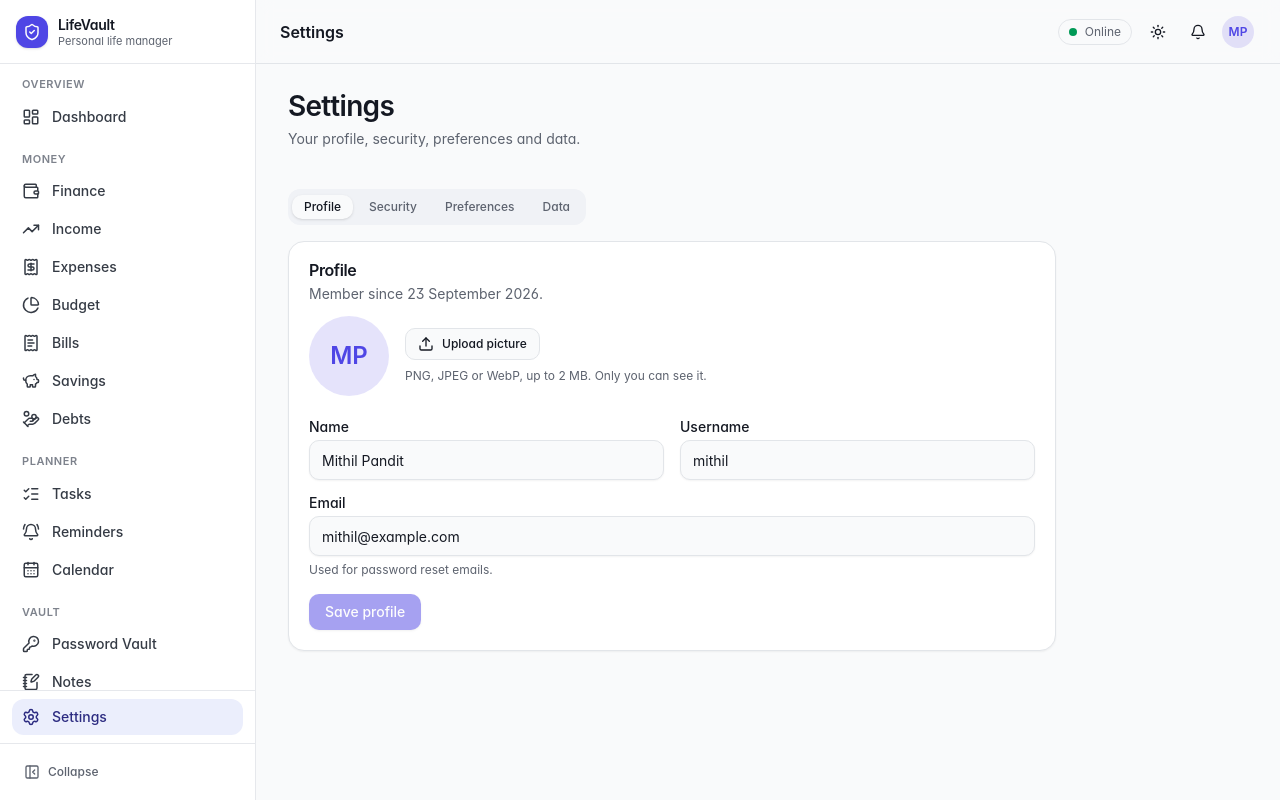
Test: settings: profile › asks for the current password to change the email
Replace the text in the field labelled "Email" with "taken@example.com" at x=672, y=536, box [309,516,1035,556]
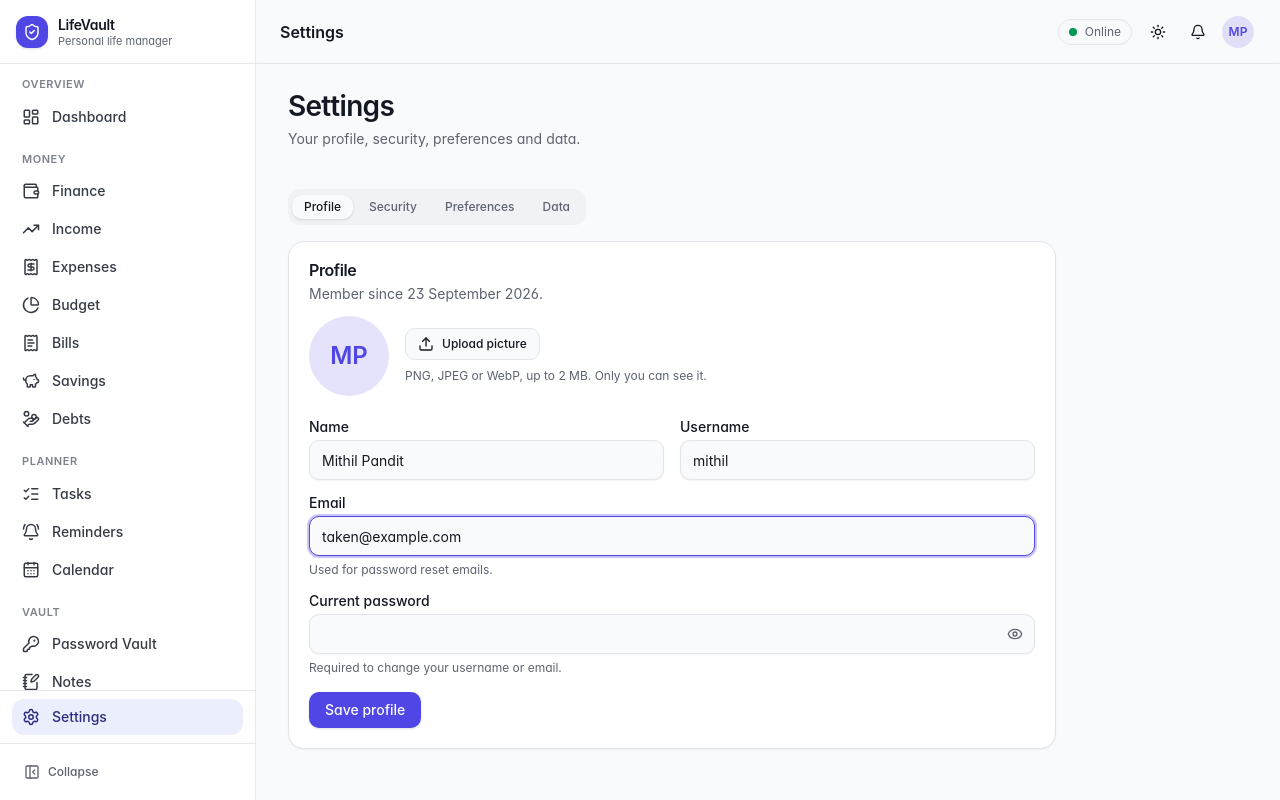
Click the button "Save profile" at x=365, y=710, box [309,692,421,728]
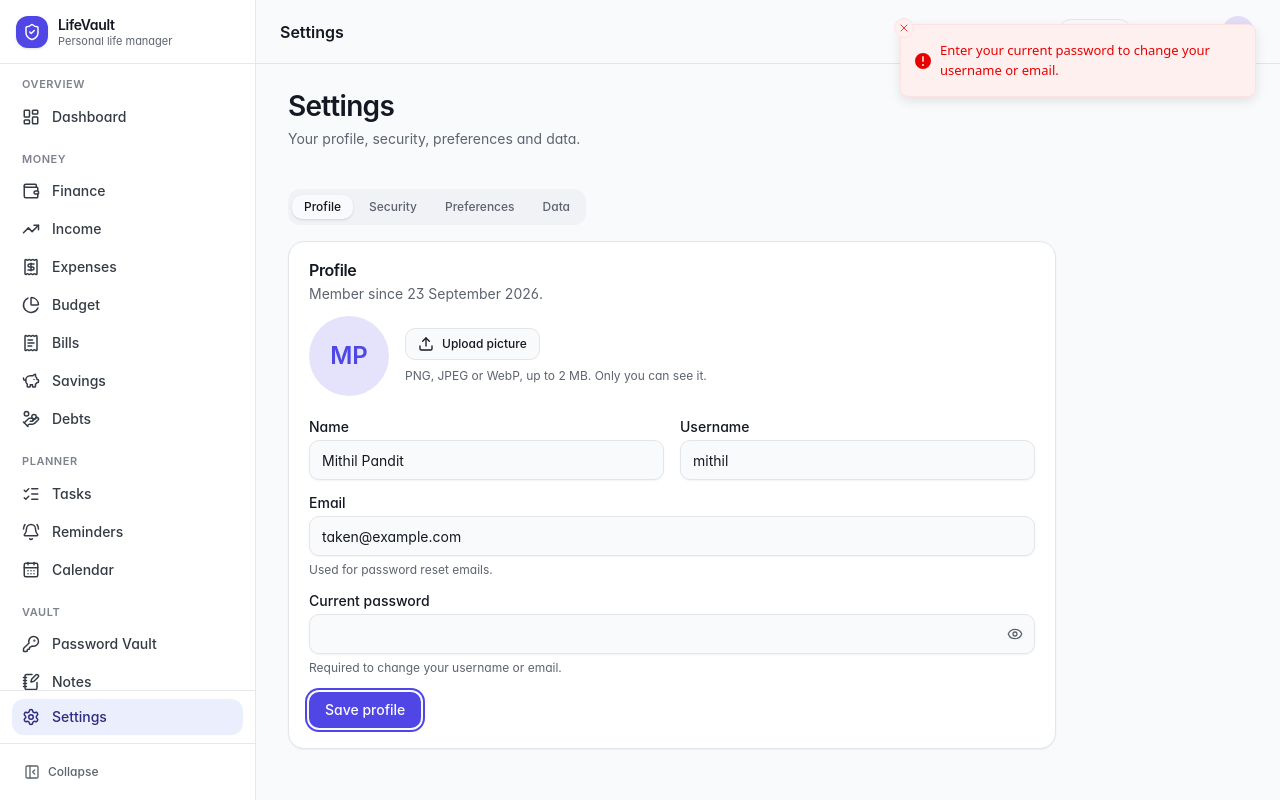
Now the text "Enter your current password to change your username or email." is shown, box [940,41,1239,80]
Type "Correct-Horse-42" into the password field labelled "Current password" at x=672, y=634, box [309,614,1035,654]
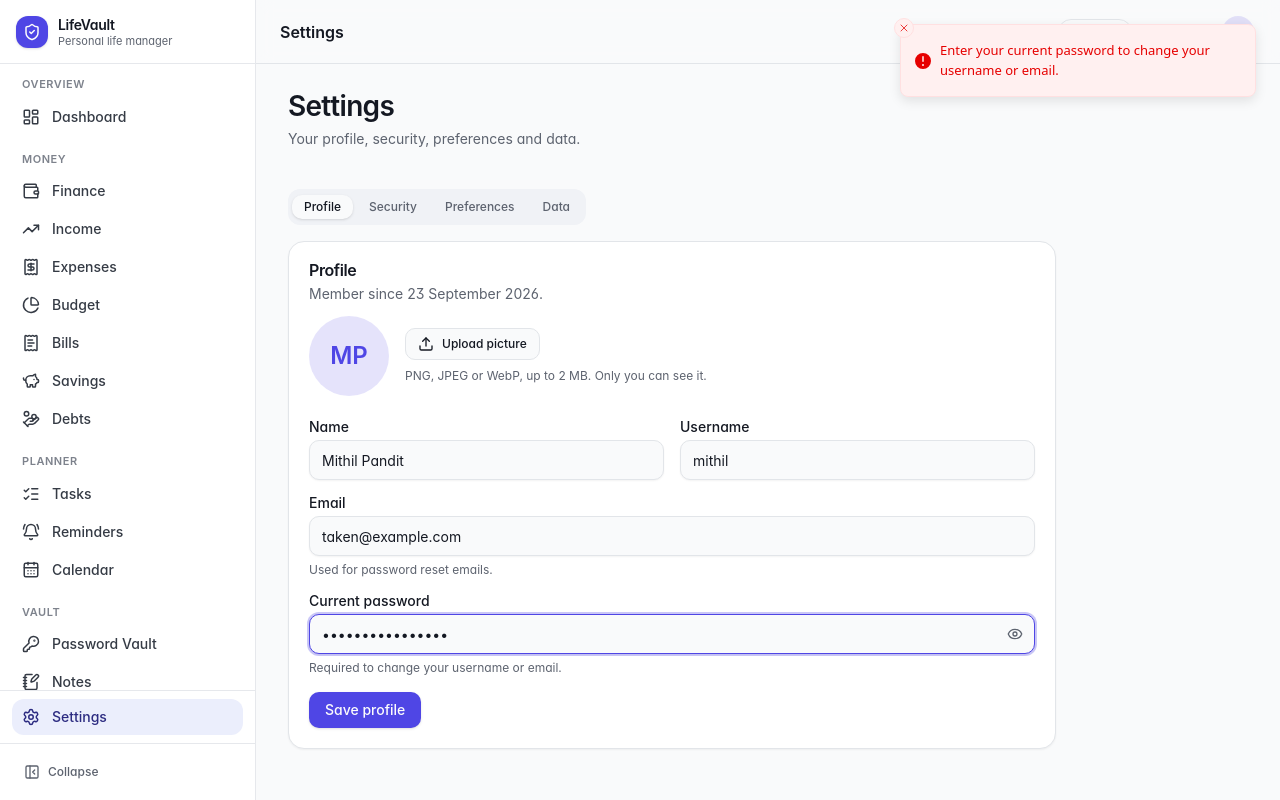
Click the button "Save profile" at x=365, y=710, box [309,692,421,728]
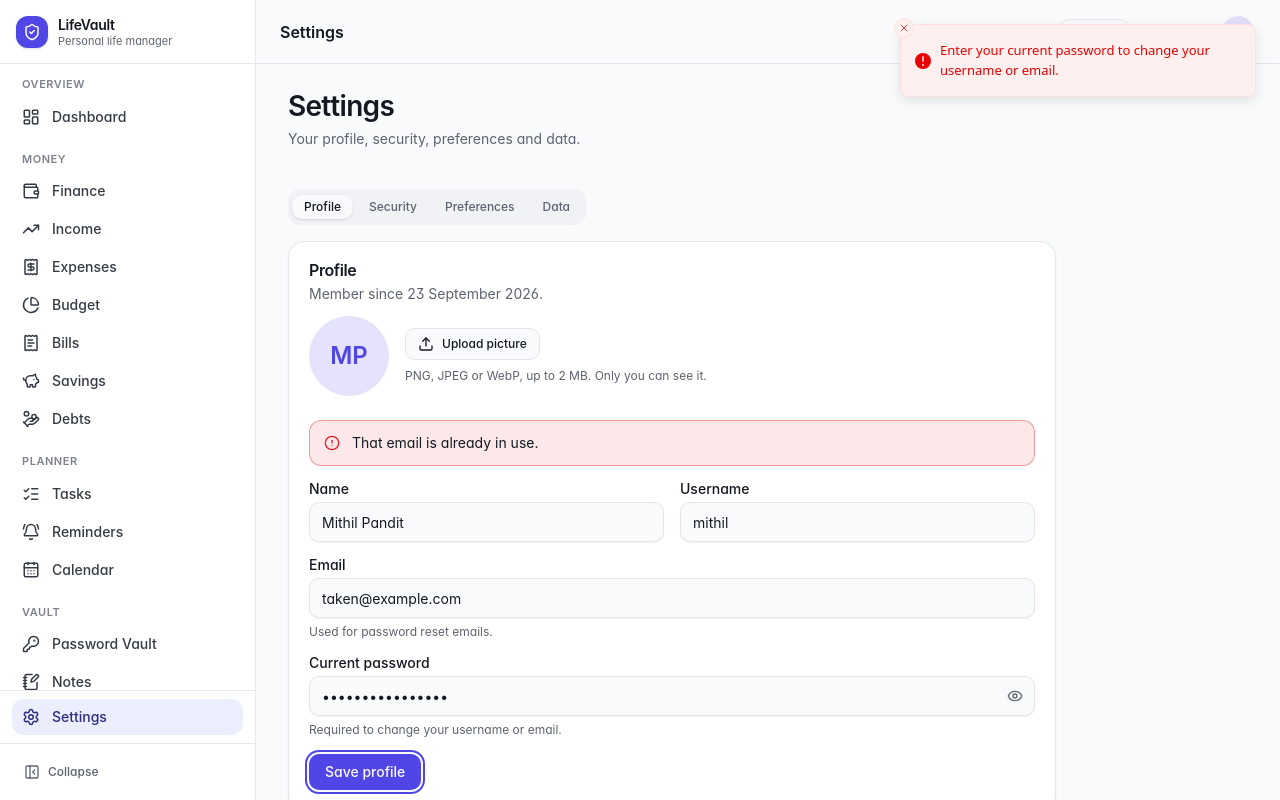
Now the text "That email is already in use." is shown, box [352,433,538,453]
